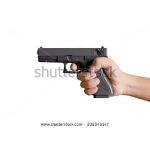Pistol: (36, 47, 114, 99)
